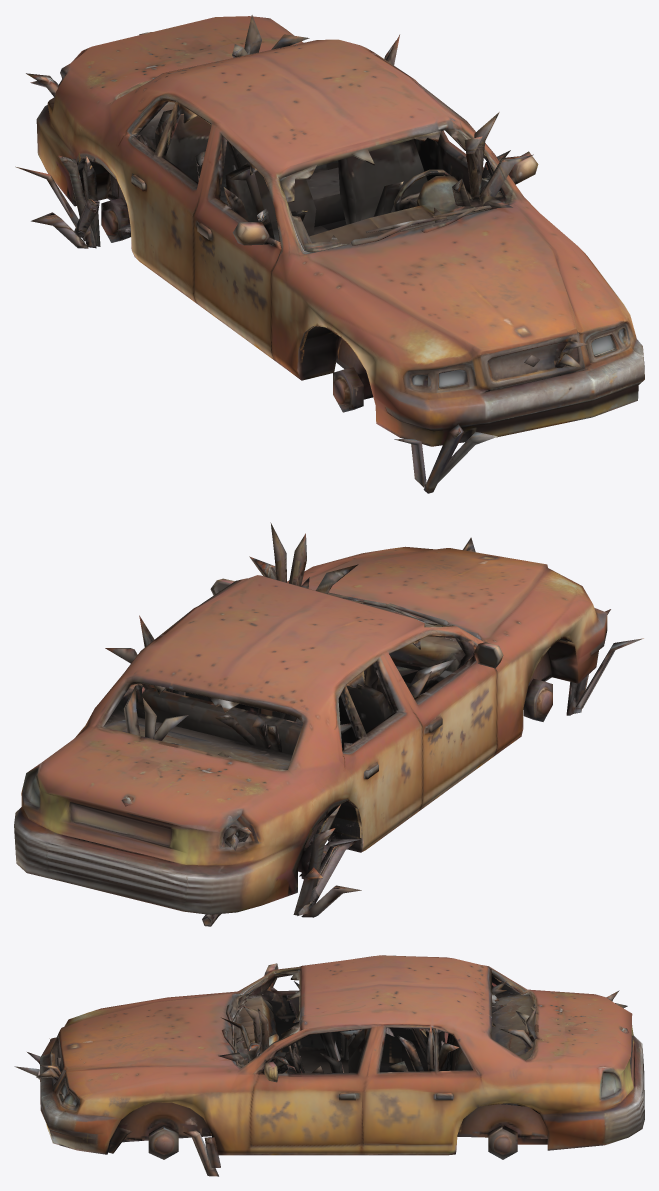
The model's file is car.fbx.
The picture shows the model from 3 angles, top to bottom: view 1: azimuth 30°, elevation 25°; view 2: azimuth 150°, elevation 25°; view 3: azimuth 270°, elevation 25°; orthographic projection. The views are drawn at different scales.
Parts seen in each view (by area): view 1: input; view 2: input; view 3: input.
Part boxes in pixels (x1,y1,x2,y2): input: (15, 15, 644, 493); input: (14, 522, 643, 926); input: (14, 955, 644, 1176).
Size of the model in its own units: 90.05 by 62.49 by 200.
1 material, 1 textured.
